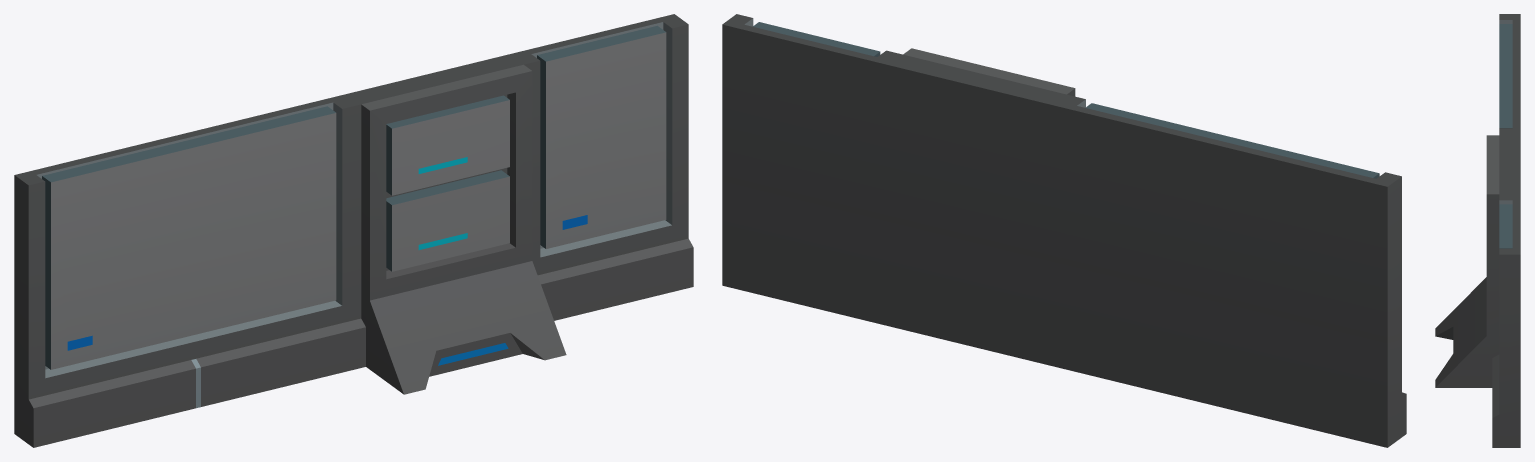
The model's file is Wall_type_B_031.fbx.
The picture shows the model from 3 angles, left to right: view 1: azimuth 30°, elevation 25°; view 2: azimuth 150°, elevation 25°; view 3: azimuth 270°, elevation 25°; orthographic projection. The views are drawn at different scales.
Visible parts, largest first — view 1: Wall_type_B_031; view 2: Wall_type_B_031; view 3: Wall_type_B_031.
Boxes of the visible parts, x1,y1,x2,y2 form: Wall_type_B_031: (14,14,693,447); Wall_type_B_031: (722,14,1406,447); Wall_type_B_031: (1435,14,1520,447).
Bounding box in the file's own units: 400 × 60 × 150.
